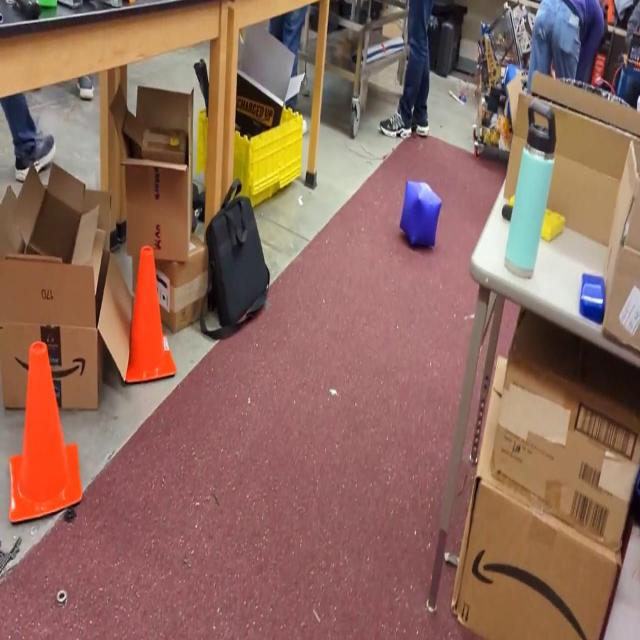frc_cube: (398, 179, 442, 249)
